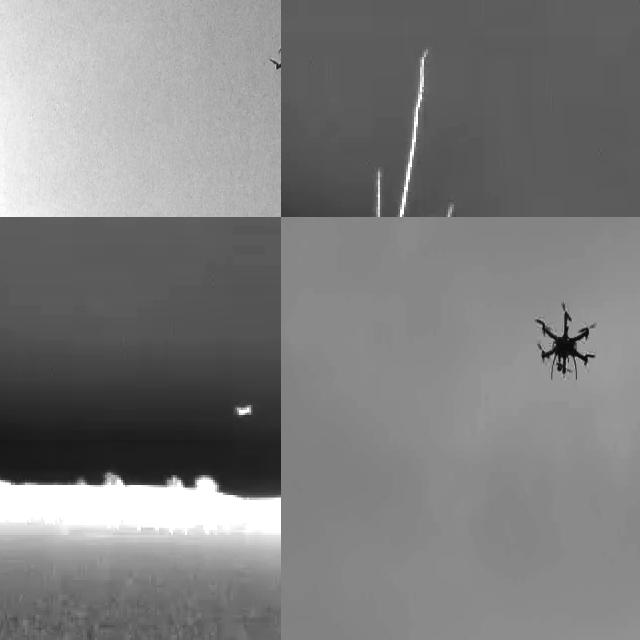1: (225, 398, 265, 432)
drone: (532, 296, 600, 384), (269, 34, 281, 86)
